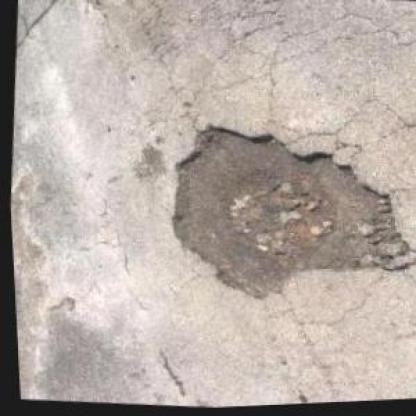pothole: (146, 111, 414, 319)
